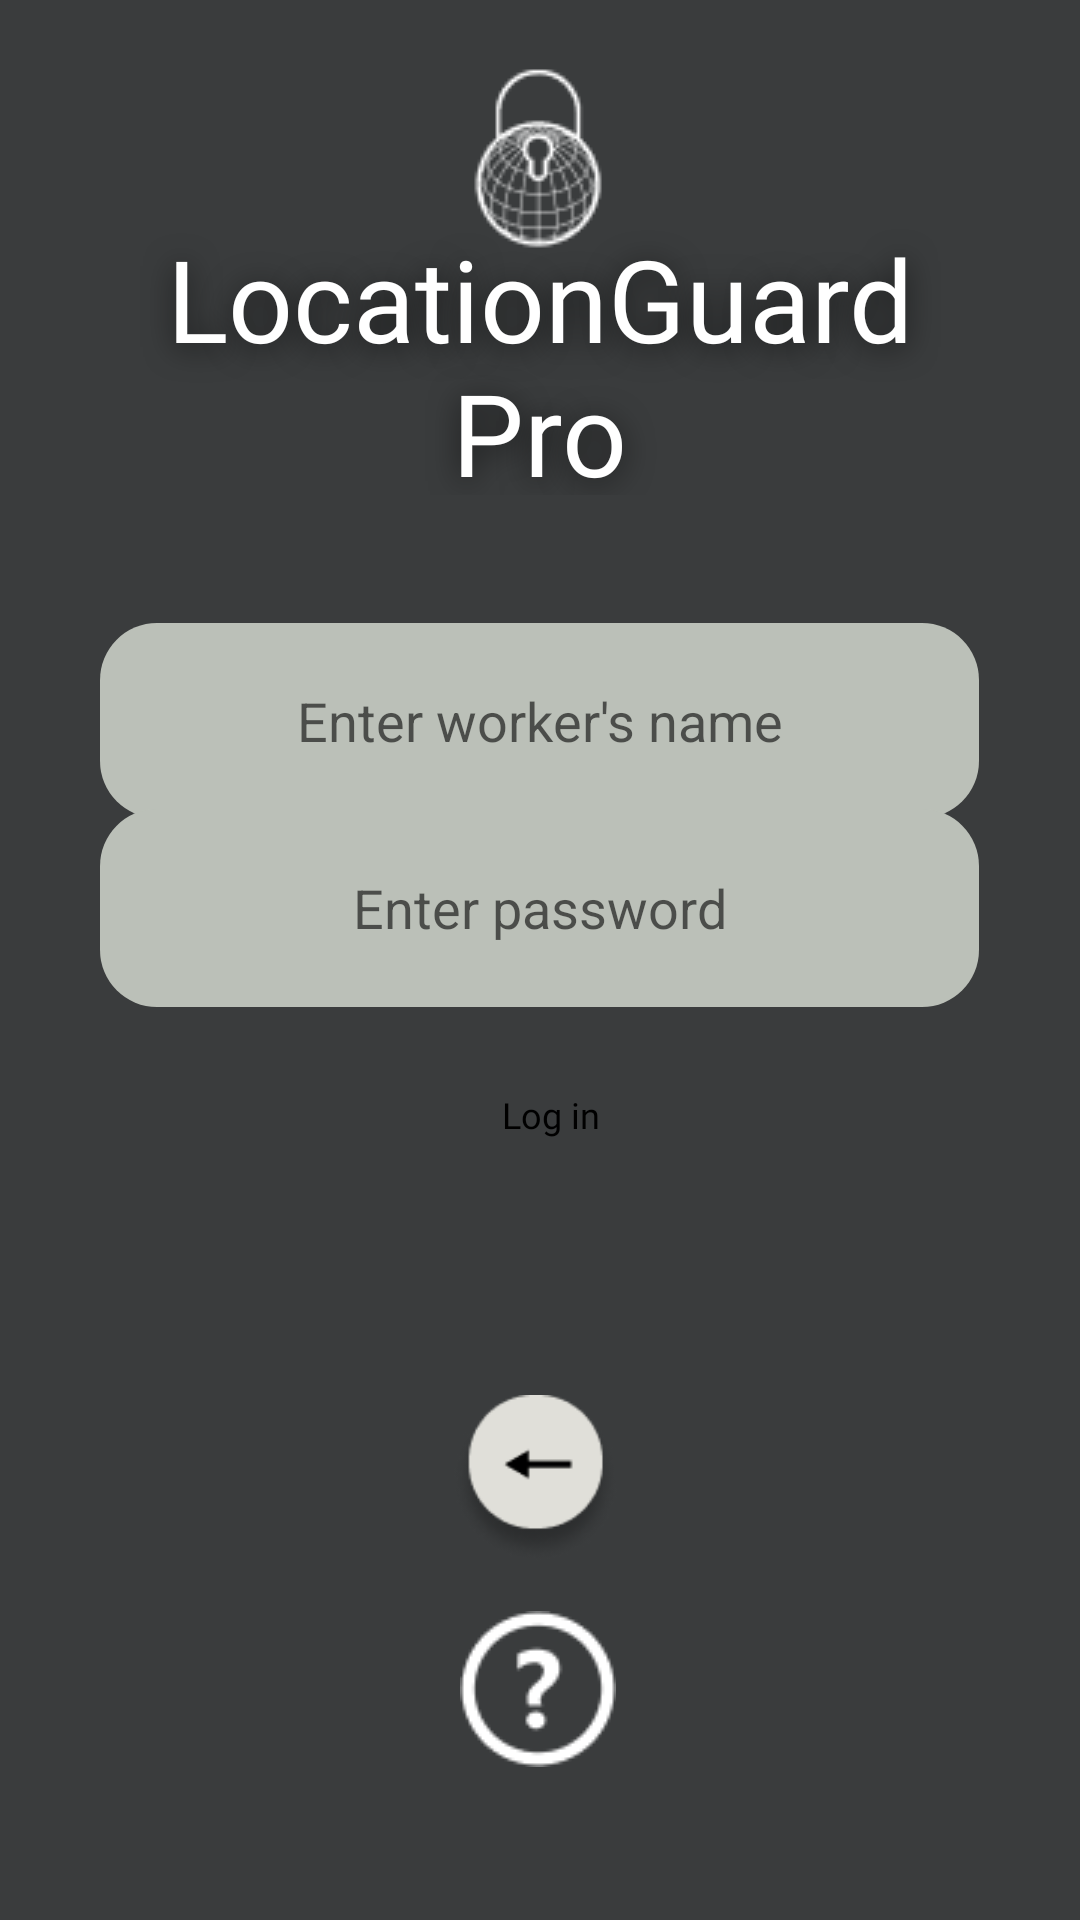

Named icons in this screenshot (1080 x 1920) and their bounding boxes, (x1, y1, x2, y2):
back: (468, 1395, 603, 1529)
helpiconwhite: (460, 1611, 616, 1767)
